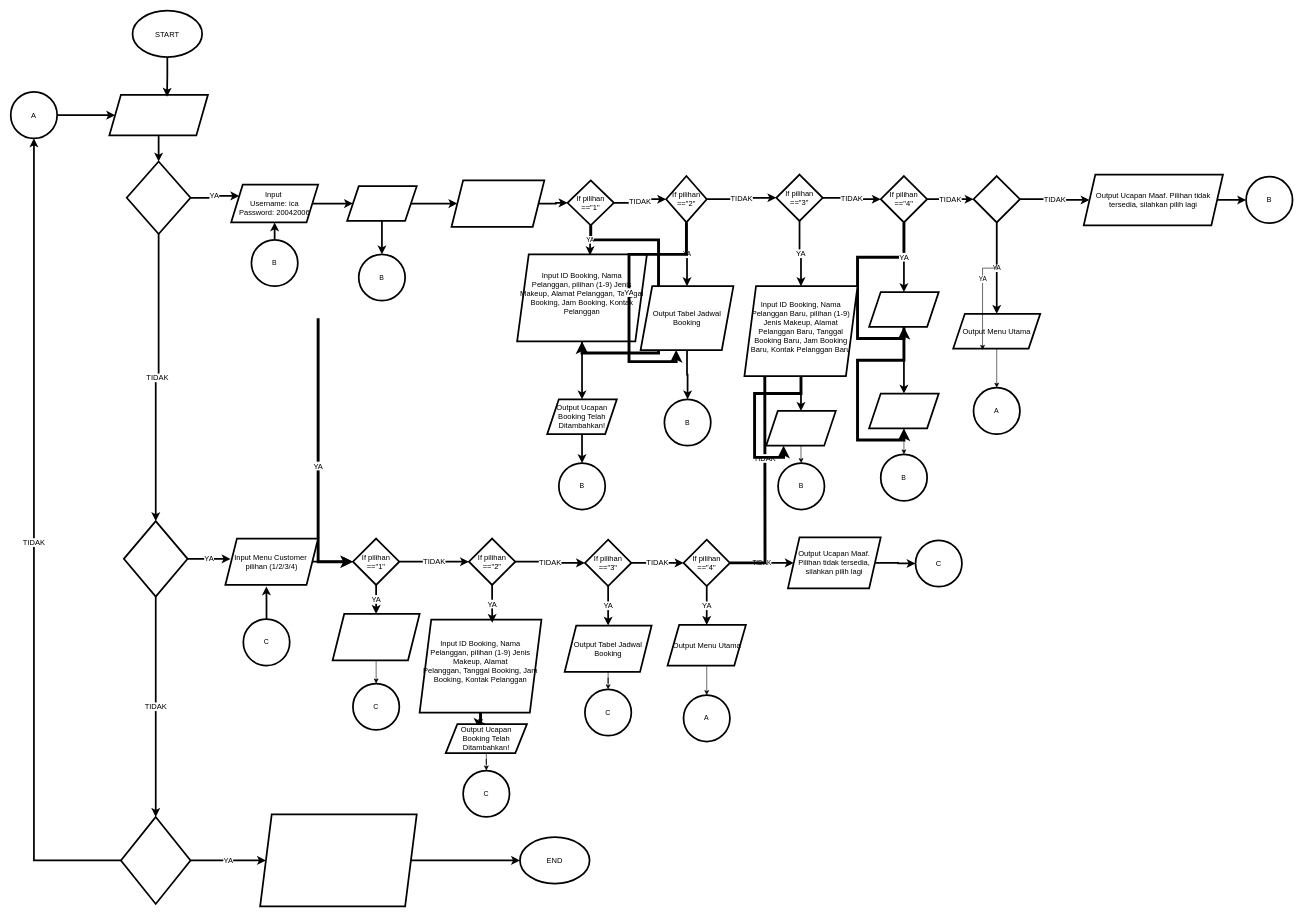
Some shapes in this 1303 by 918 pixel diagram are drawn without their labels. Each missing label, with the centre of its shape:
If pilihan =="5": [996,199]
Input ID Booking: [903,309]
Input Menu Admin pilihan (1/2/3/4): [497,203]
Input pilihan (1/2/3) 1. Admin 2. Customer 3. Keluar: [158,115]
Jika Input "1": [158,197]
Jika Input "2": [155,558]
Jika Input "3": [155,860]
Output Tabel Jenis Makeup: [375,637]
Output Ucapan Booking Berhasil Dihapus!: [903,410]
Output Ucapan Booking Berhasil Diubah!: [800,428]
Output Ucapan Login Berhasil: [381,203]
OUTPUT ucapan Terima kasih telah menggunaan Sistem Booking MUA By Ica!: [338,860]
